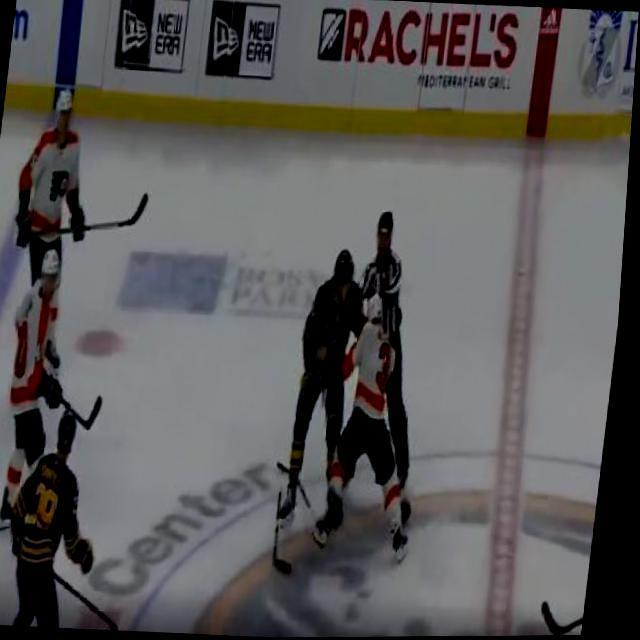fight: (284, 206, 444, 554)
